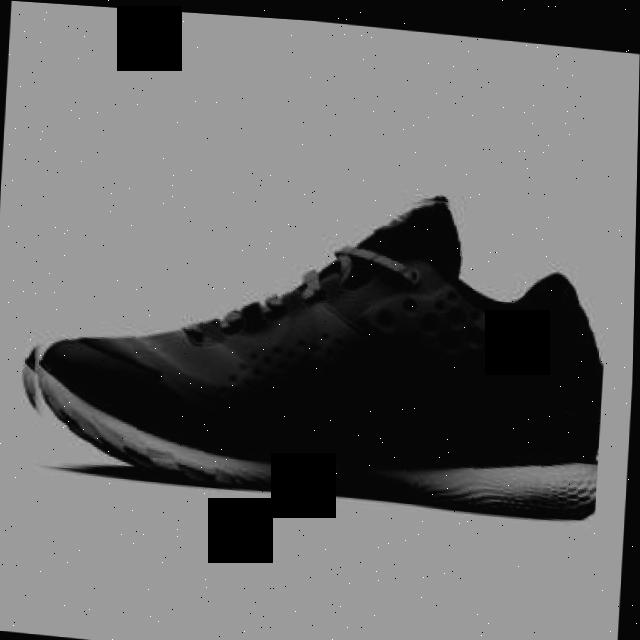shoe: (17, 152, 612, 513)
